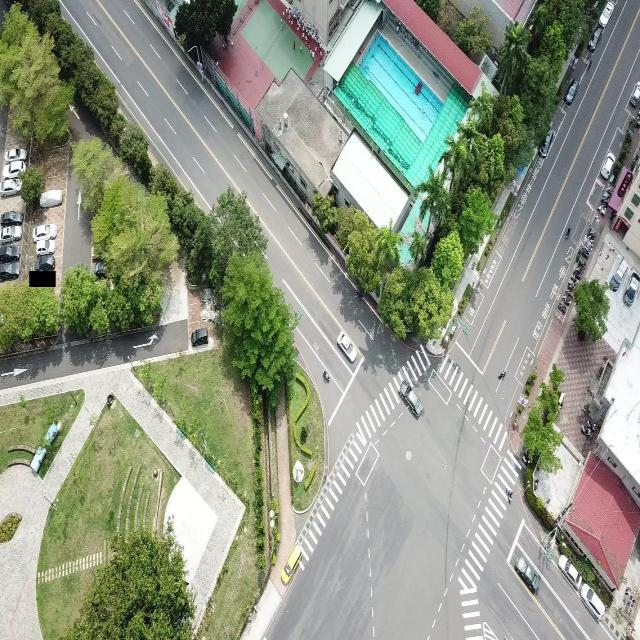bike: (586, 417, 596, 432), (600, 197, 611, 209), (505, 487, 513, 503), (564, 226, 572, 242), (597, 205, 607, 217), (569, 274, 578, 287), (565, 288, 574, 299), (567, 282, 576, 293), (322, 370, 330, 382), (580, 426, 590, 435), (557, 303, 566, 313), (573, 270, 582, 280), (498, 368, 506, 379), (563, 294, 570, 306)
car: (555, 555, 584, 593), (398, 379, 424, 418), (514, 555, 540, 594), (580, 583, 605, 621), (608, 253, 630, 296), (280, 543, 302, 585), (0, 175, 28, 201), (3, 133, 28, 160), (622, 271, 640, 306), (337, 330, 356, 363), (31, 237, 59, 256), (1, 203, 24, 226), (32, 223, 57, 242), (539, 128, 554, 158), (598, 0, 614, 28), (588, 23, 602, 55), (0, 243, 22, 262), (601, 151, 615, 179), (564, 78, 578, 105), (4, 157, 25, 175), (1, 228, 26, 242), (2, 262, 21, 280), (191, 326, 208, 346), (37, 256, 60, 270), (630, 80, 639, 106), (94, 260, 106, 278)
